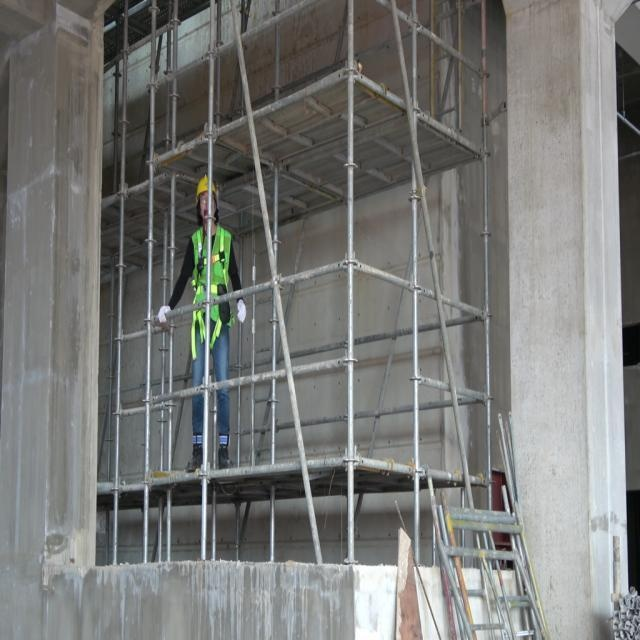Arnes_seguridad: (192, 225, 232, 360)
